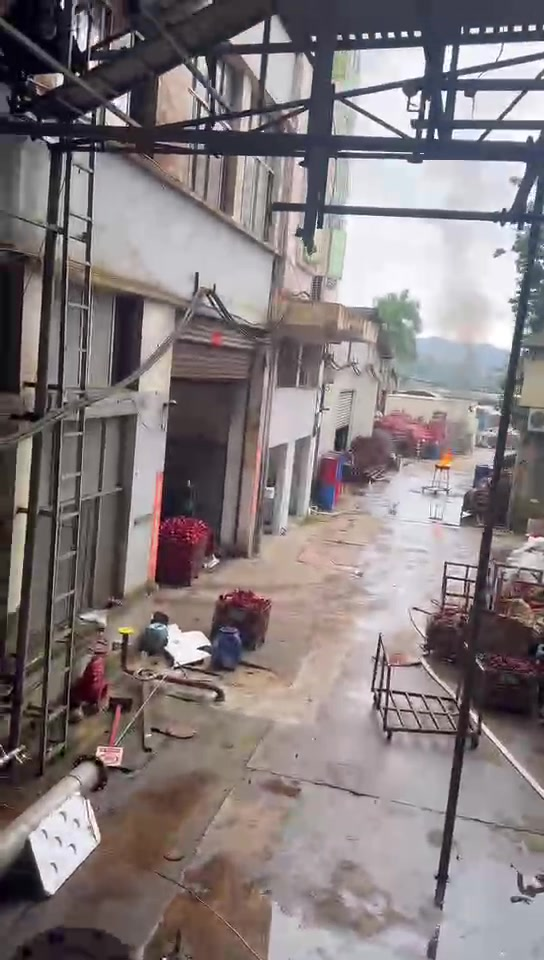fire: (436, 449, 454, 466)
